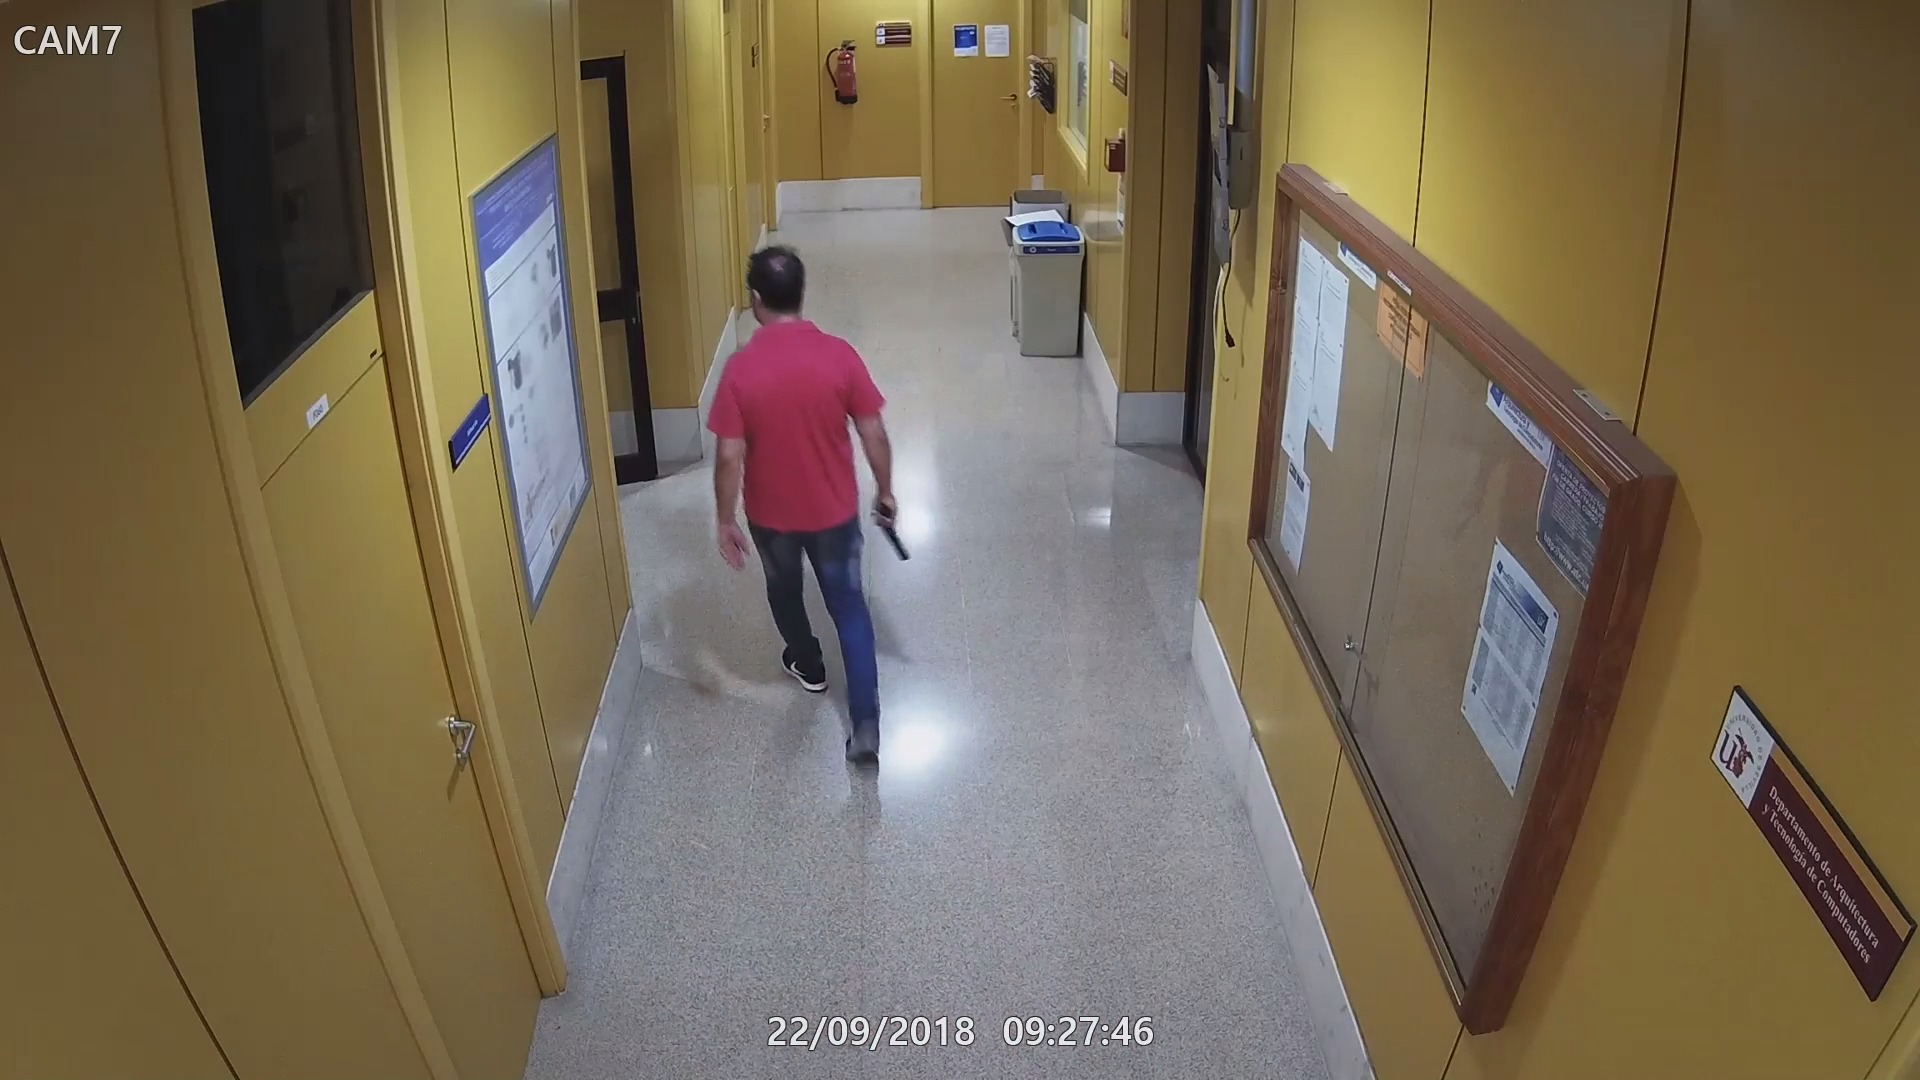pistol: (866, 498, 909, 562)
